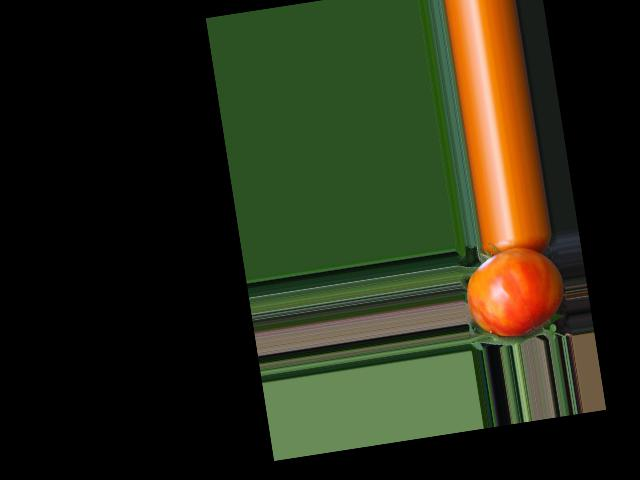tomato: (461, 242, 569, 342)
